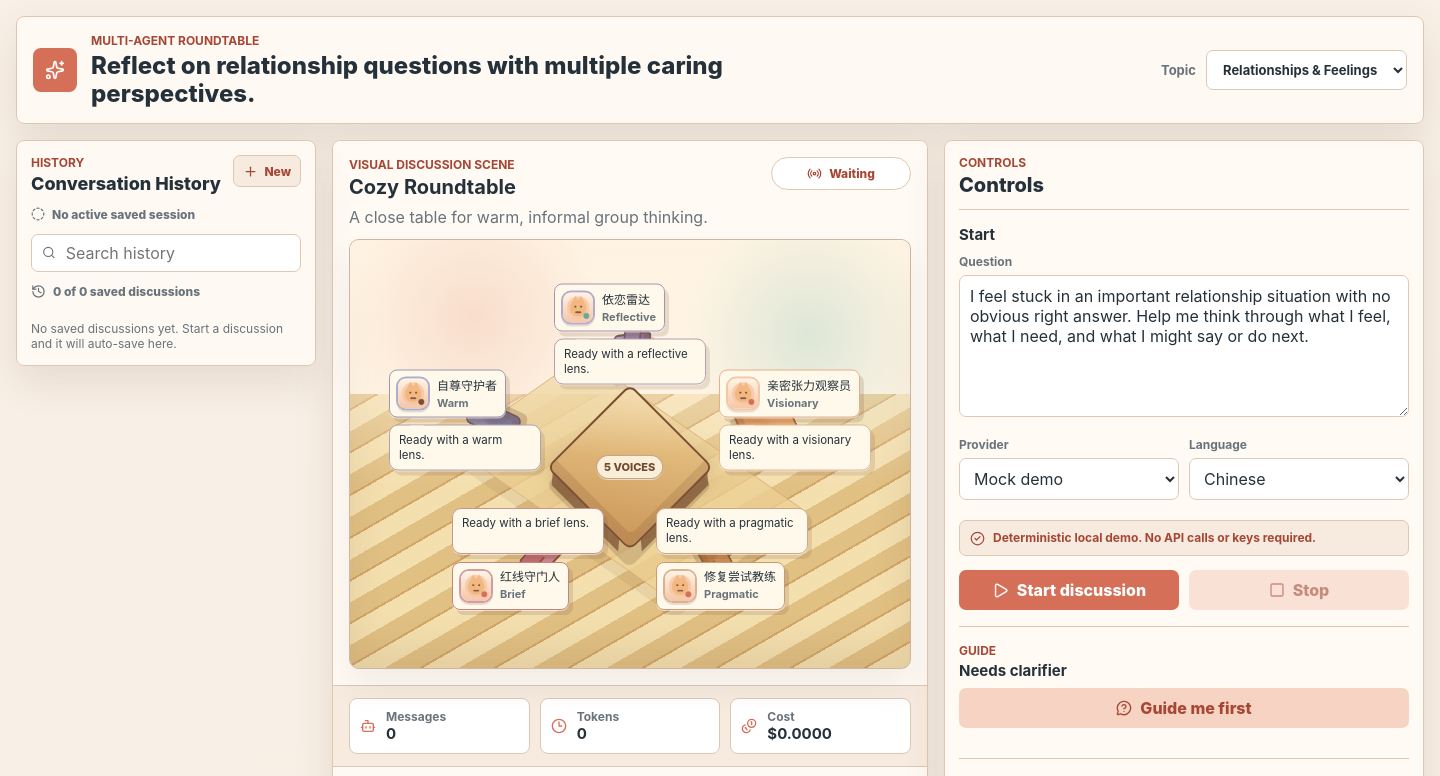
Test: App › shows when the local DeepSeek API and key are ready
This screenshot has width=1440, height=776.
Select "DeepSeek live" in the dropdown named "Provider mode". click: (1069, 479)
box: x1=959 y1=458 x2=1179 y2=500
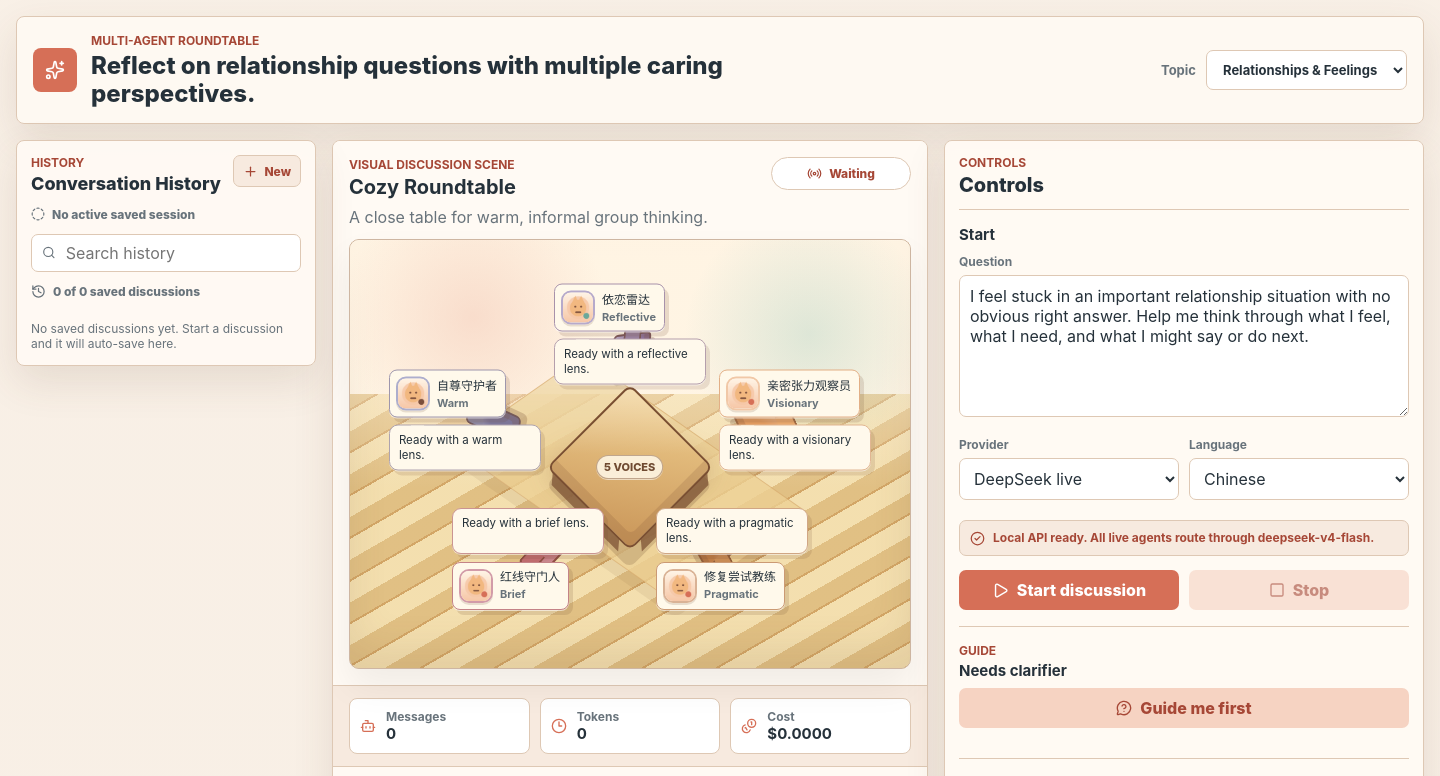
Result: the text "All live agents route through deepseek-v4-flash" is shown at x1=993 y1=530 x2=1374 y2=545
